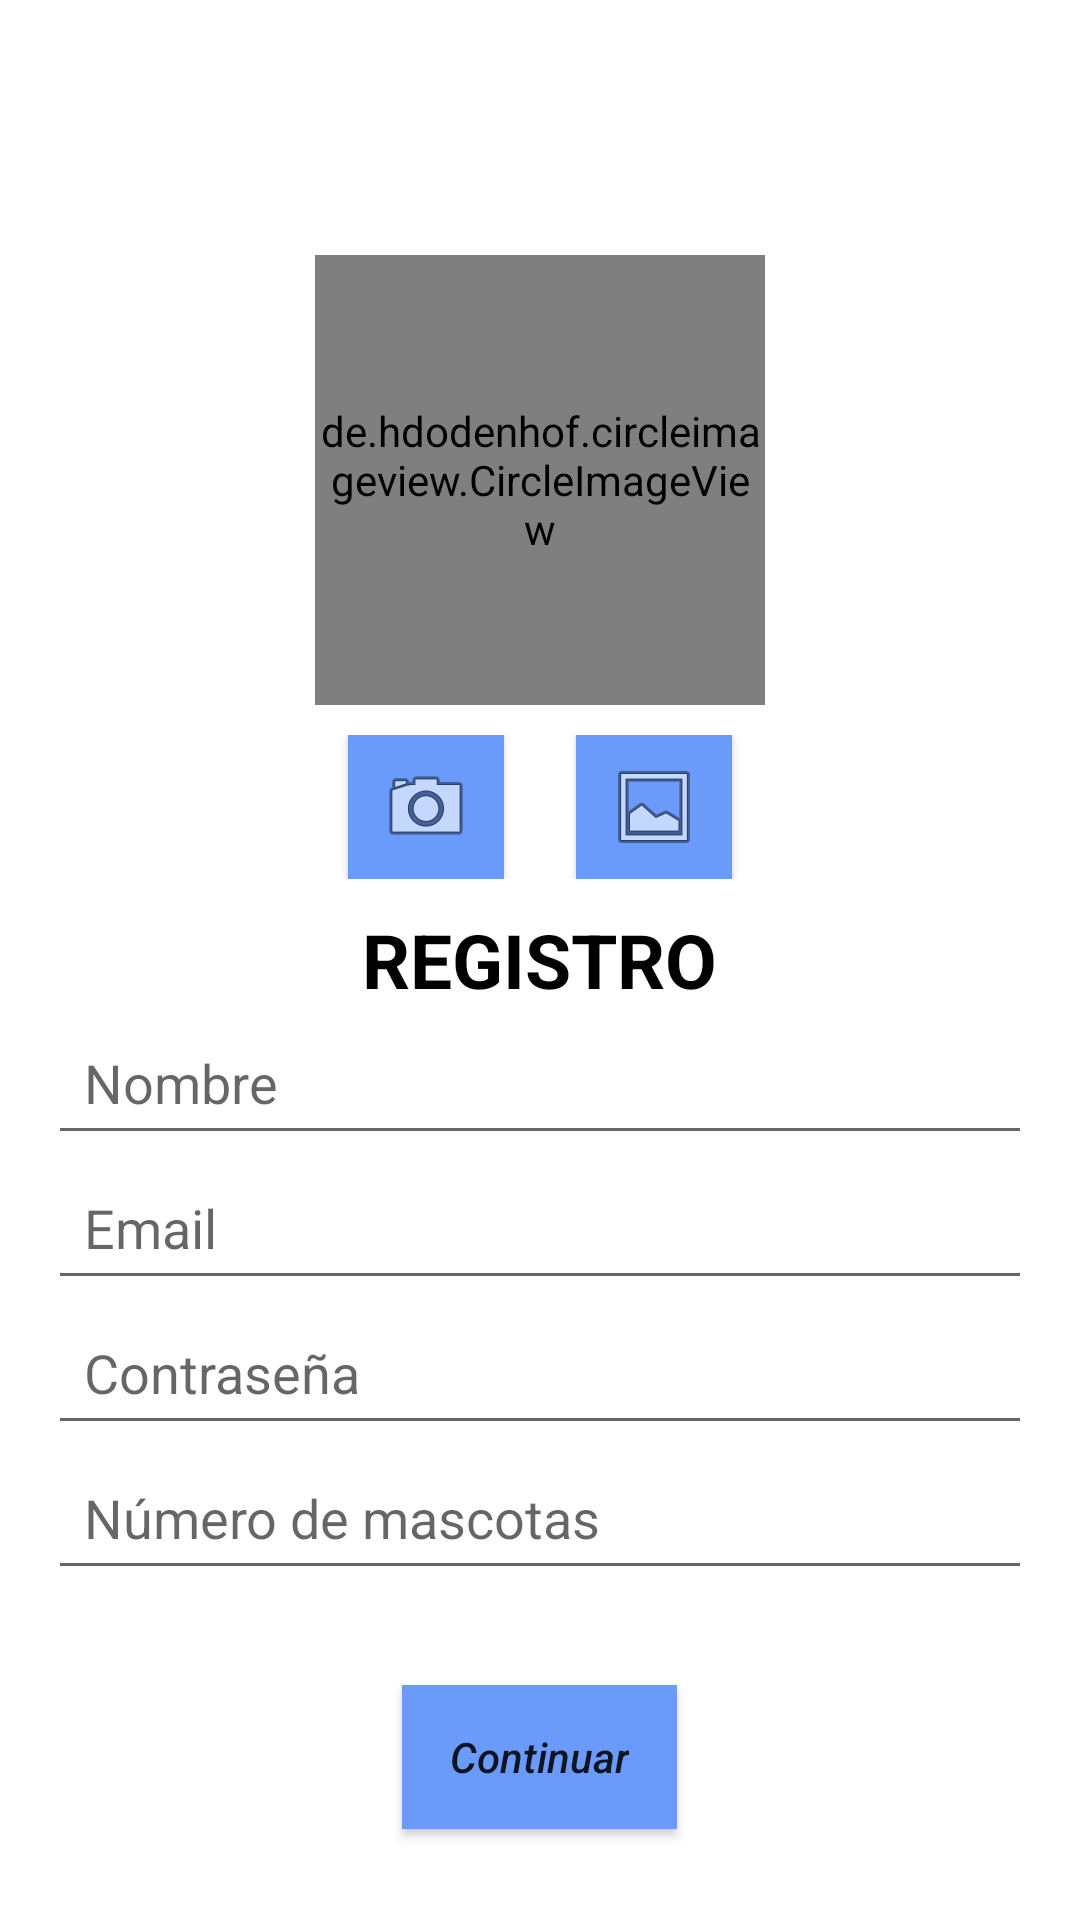

Named icons in this screenshot (1080×1920) and their bounding boxes, Rect(x1, y1, x2, y2):
camera: Rect(348, 735, 504, 879)
gallery: Rect(576, 735, 732, 879)
